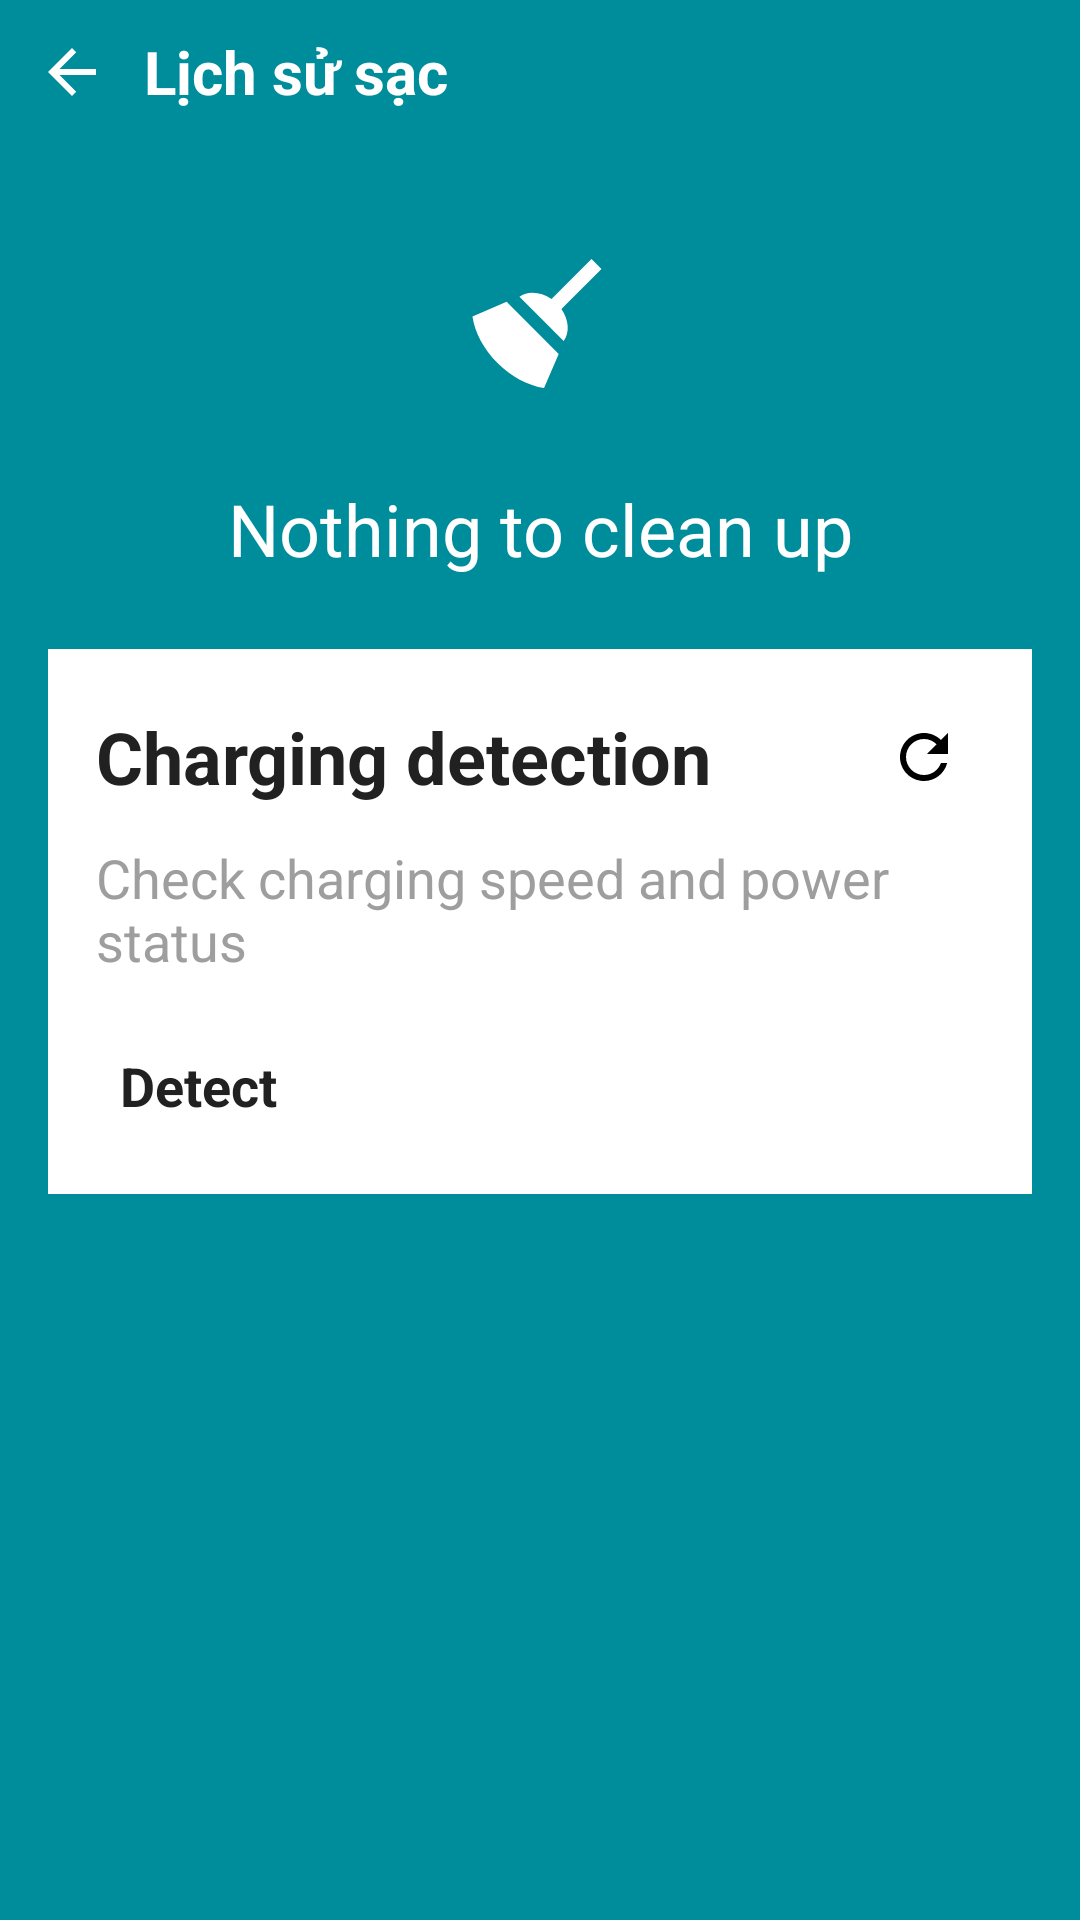

Where icons sit on this 1080x1920 app screen, as (left=x1, top=y1, right=x2, bottom=y2):
Back: (left=48, top=48, right=96, bottom=96)
broom: (left=472, top=259, right=601, bottom=388)
